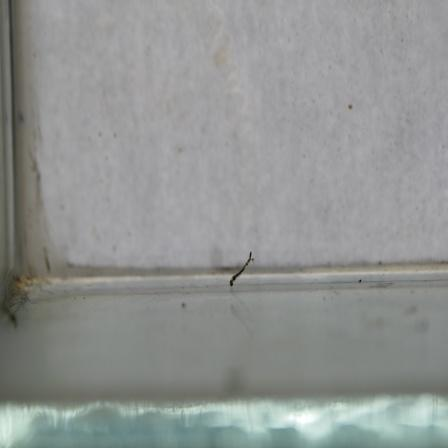Jentik-Nyamuk: (227, 248, 257, 289)
